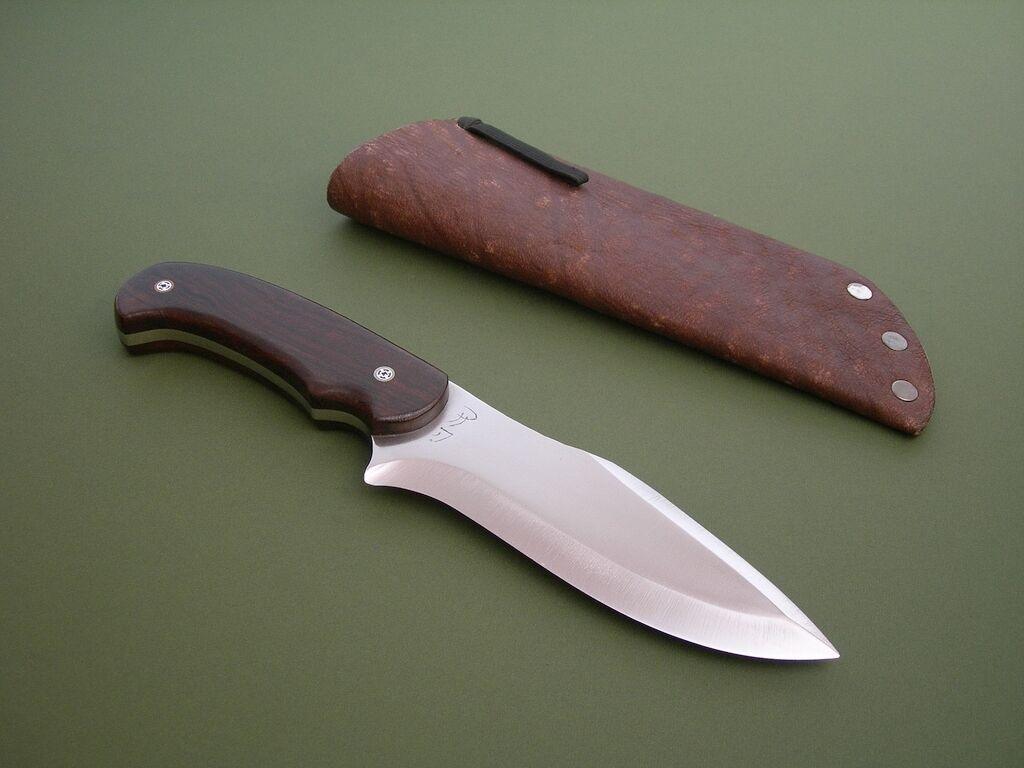knief: (87, 258, 855, 705)
